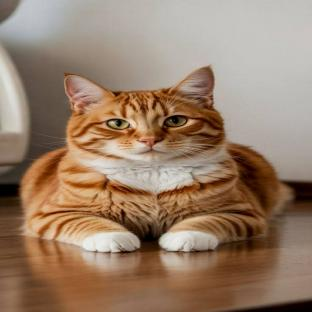Animal: (21, 66, 292, 253)
